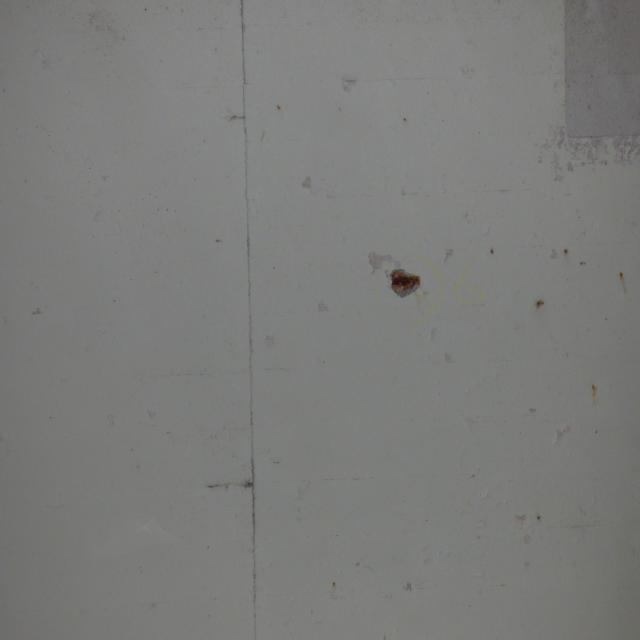corrosion: (476, 232, 633, 558), (380, 252, 432, 310)
